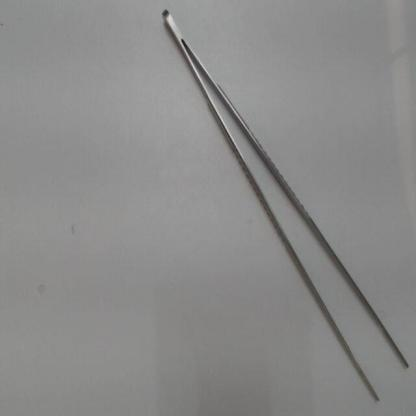DeBakey Dissector: (150, 1, 415, 413)
